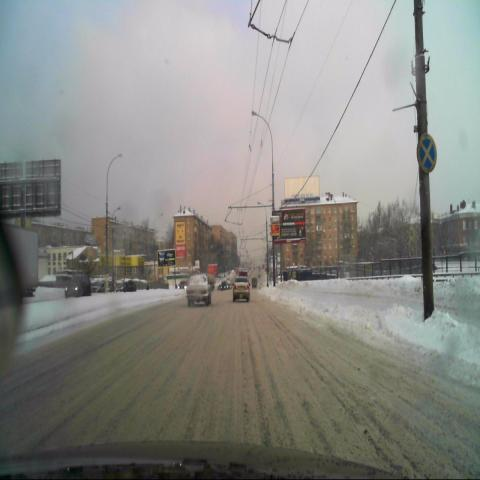3_27: (416, 131, 438, 175)
